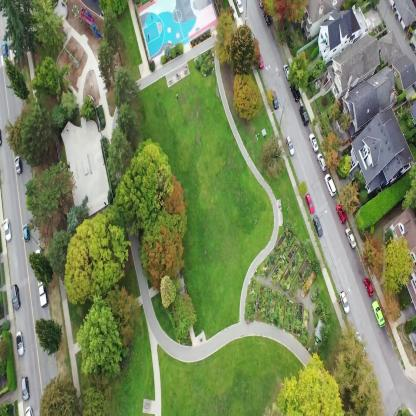Coniferous Tree: (0, 0, 38, 55), (26, 0, 64, 46), (4, 60, 29, 103), (27, 247, 54, 286), (35, 318, 62, 356), (115, 69, 141, 108), (118, 103, 142, 136)
Deciduous Tree: (63, 212, 128, 290), (118, 129, 166, 234), (80, 287, 128, 389), (275, 348, 336, 416), (338, 336, 388, 416), (144, 218, 184, 280), (5, 107, 54, 155), (28, 176, 77, 220), (386, 232, 410, 304), (233, 74, 266, 124), (263, 0, 302, 39), (230, 25, 258, 74), (42, 378, 77, 416), (33, 59, 64, 99), (214, 8, 235, 66)
